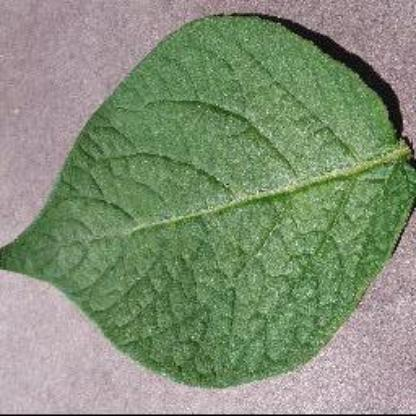Healthy-plant: (6, 16, 410, 386)
